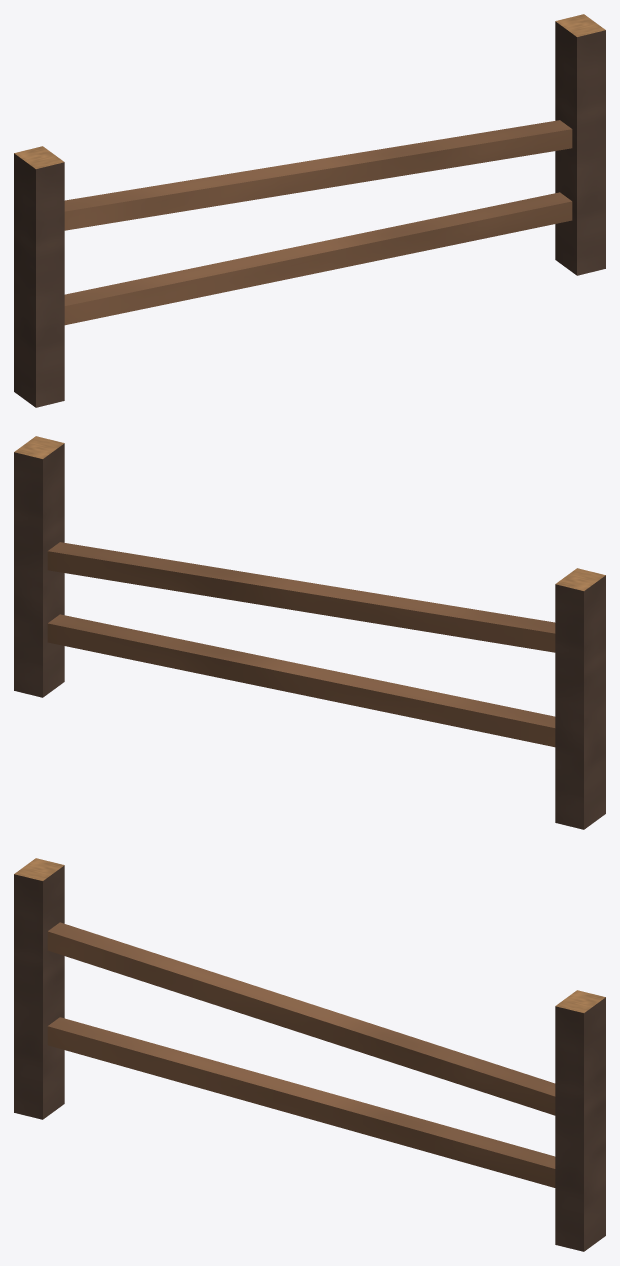
Rendered from fence_wood_broken.fbx.
3 renders of one model, top to bottom at view 1: azimuth 30°, elevation 25°; view 2: azimuth 150°, elevation 25°; view 3: azimuth 330°, elevation 25°, orthographic.
Parts seen in each view (by area): view 1: fence_wood_broken; view 2: fence_wood_broken; view 3: fence_wood_broken.
Boxes of the visible parts, x1=… form: fence_wood_broken: x1=14, y1=14, x2=605, y2=407; fence_wood_broken: x1=14, y1=436, x2=605, y2=829; fence_wood_broken: x1=14, y1=858, x2=605, y2=1251.
Size of the model in its own units: 300 by 120 by 20.
1 material, 1 textured.
